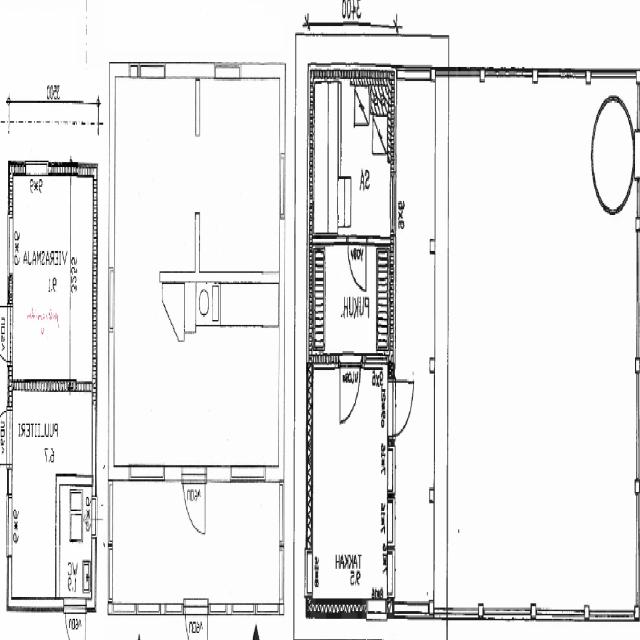door: (183, 466, 205, 540), (388, 381, 417, 436), (340, 354, 360, 421), (348, 236, 366, 291), (65, 598, 86, 640), (0, 306, 14, 362), (0, 410, 14, 464)
